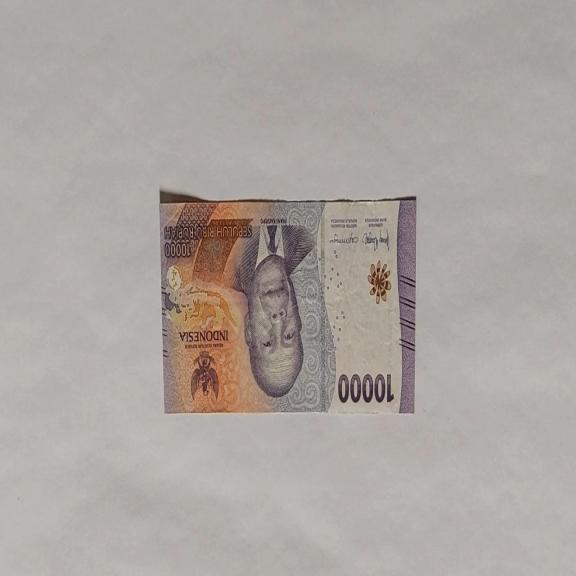Kertas: (160, 193, 416, 416)
